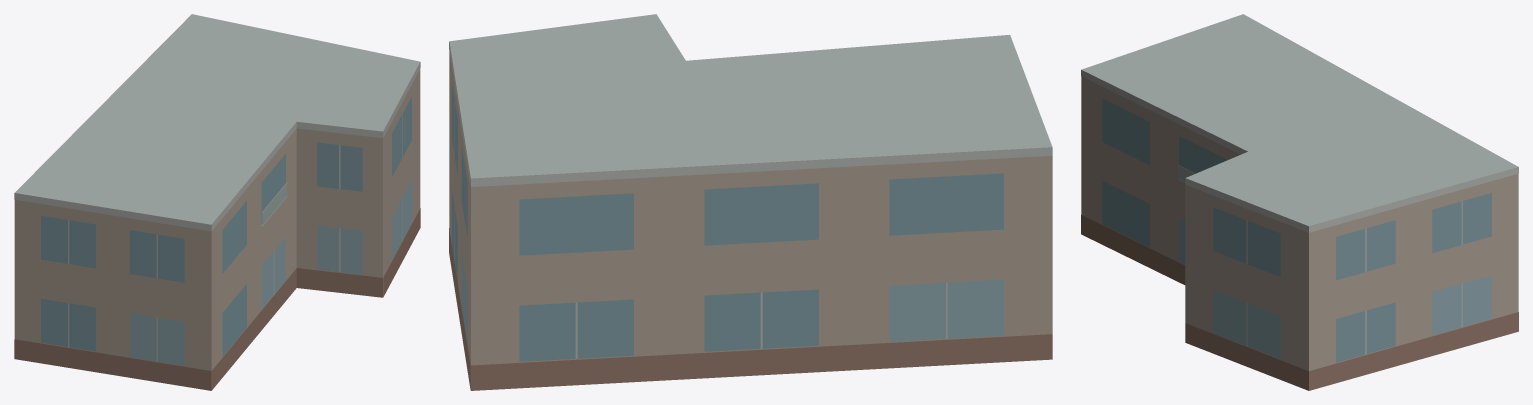
File: survey-upis-32753083.glb
3 renders of one model, left to right at view 1: azimuth 30°, elevation 25°; view 2: azimuth 150°, elevation 25°; view 3: azimuth 270°, elevation 25°, orthographic. The views are drawn at different scales.
Parts seen in each view (by area): view 1: survey-upis-32753083.tmp; view 2: survey-upis-32753083.tmp; view 3: survey-upis-32753083.tmp.
Boxes of the visible parts, bbox=[...] form: survey-upis-32753083.tmp: bbox=[14, 14, 420, 390]; survey-upis-32753083.tmp: bbox=[449, 14, 1052, 390]; survey-upis-32753083.tmp: bbox=[1081, 14, 1518, 390].
Size of the model in its own units: 16.88 by 6.1 by 14.71.
